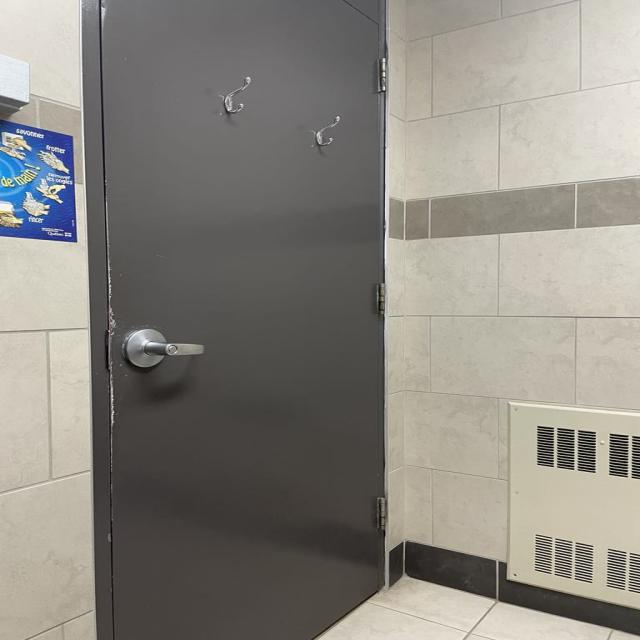door-handle: (123, 329, 205, 368)
